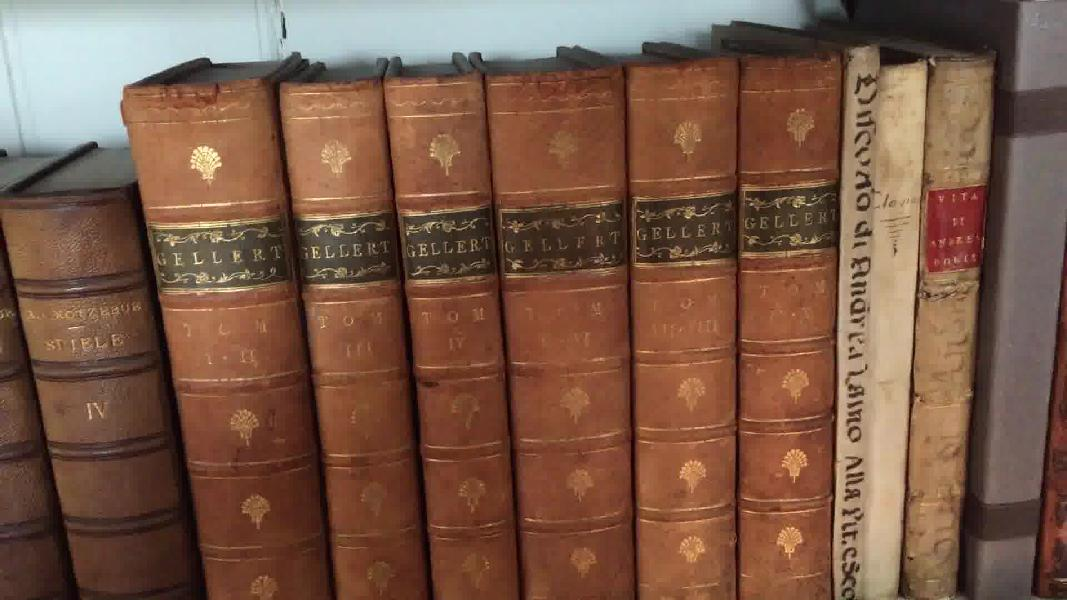Aa6-18_23: (112, 44, 846, 600)
Aa6-24: (836, 23, 887, 600)
Aa6-25: (867, 40, 918, 600)
Aa6-26: (909, 21, 985, 600)
Aa6-27: (978, 12, 1061, 600)
